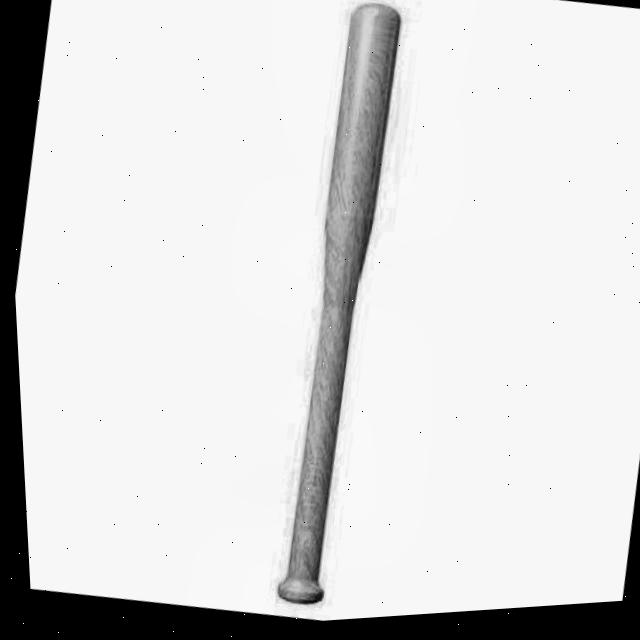tongkat pemukul: (260, 1, 400, 604)
